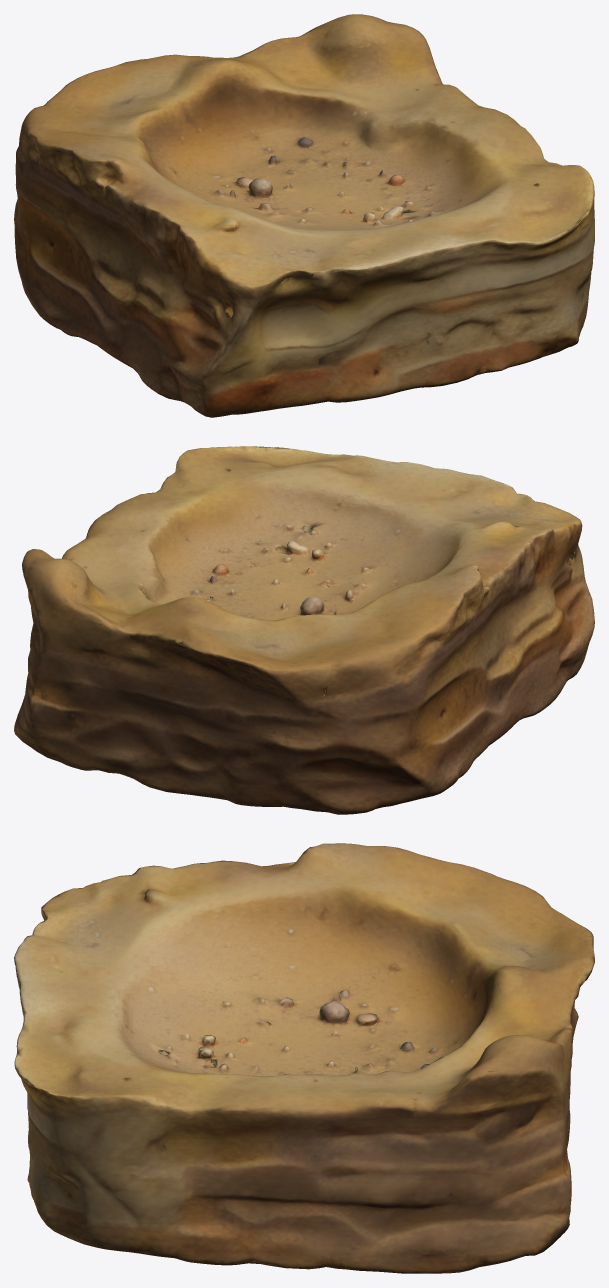
3 views of the same model, one above another, from view 1: azimuth 30°, elevation 25°; view 2: azimuth 150°, elevation 25°; view 3: azimuth 270°, elevation 25° (orthographic). The views are drawn at different scales.
Visible parts, largest first — view 1: world; view 2: world; view 3: world.
Part boxes in pixels (<box>): world: <box>14,14,594,417</box>; world: <box>14,446,594,814</box>; world: <box>14,843,594,1273</box>.
Bounding box in the file's own units: 4.57 × 2.16 × 5.
Materials: 1 (1 with a texture image).
